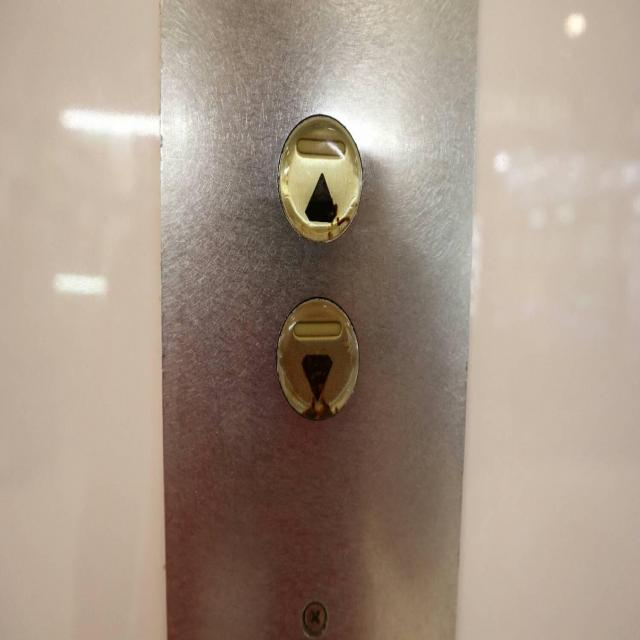down: (270, 290, 362, 426)
up: (274, 109, 366, 246)
